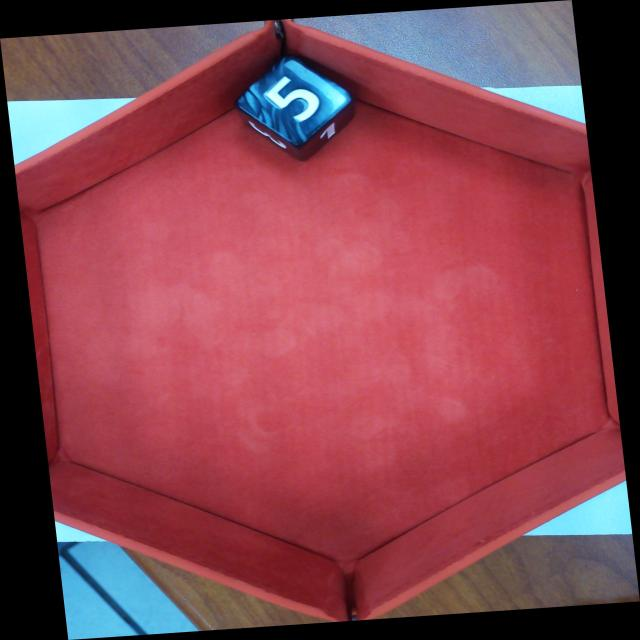dice: (228, 50, 362, 152)
